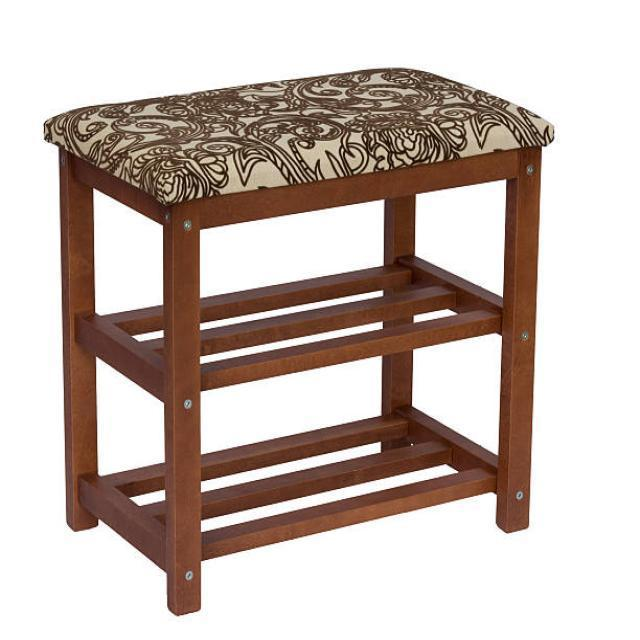table: (42, 65, 554, 616)
